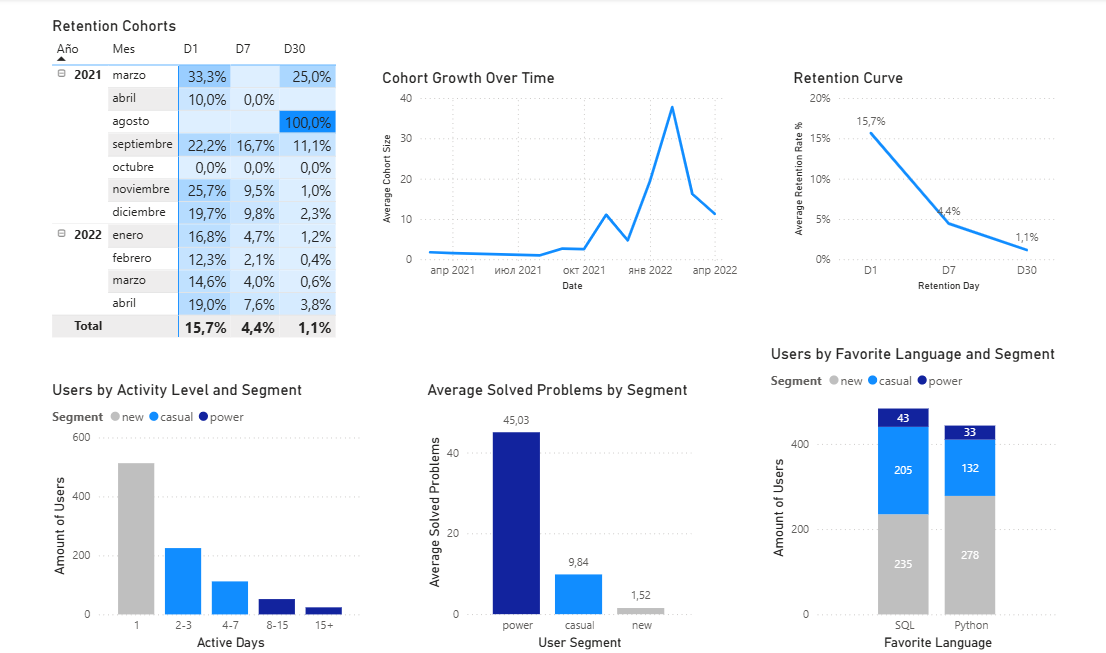

The dashboard page shown, as its layout file describes it:
{"tool":"powerbi","page":{"name":"Retention + Behavior","canvas":[1280,720],"ordinal":1},"visuals":[{"type":"pivotTable","title":"Retention Cohorts","fields":{"Columns":["mart agg_user_retention.retention_day"],"Values":["mart agg_user_retention.Retention Rate","select"],"Rows":["mart dim_calendar.month_start.Variación.Jerarquía de fechas.Año","mart dim_calendar.month_start.Variación.Jerarquía de fechas.Mes"]},"box":[102.9,20.6,330,400],"z":0},{"type":"lineChart","title":"Retention Curve","fields":{"Y":["mart agg_user_retention.Retention Rate"],"Category":["mart agg_user_retention.retention_day"]},"box":[916.6,76.8,300.5,250],"z":1000},{"type":"columnChart","title":"Users by Favorite Language and Segment","fields":{"Category":["mart agg_user_learning_behavior.favorite_language"],"Y":["CountNonNull(mart agg_user_learning_behavior.user_id)"],"Series":["mart agg_user_learning_behavior.user_segment"]},"box":[891.9,380.1,325.2,340.3],"z":2000},{"type":"columnChart","title":"Users by Activity Level and Segment","fields":{"Category":["mart agg_user_learning_behavior.ActiveDaysBin"],"Y":["CountNonNull(mart agg_user_learning_behavior.user_id)"],"Series":["mart agg_user_learning_behavior.user_segment"]},"box":[102.9,419.9,350,300.5],"z":3000},{"type":"lineChart","title":"Cohort Growth Over Time","fields":{"Category":["mart dim_calendar.calendar_date.Variación.Jerarquía de fechas.Año","mart dim_calendar.calendar_date.Variación.Jerarquía de fechas.Trimestre","mart dim_calendar.calendar_date.Variación.Jerarquía de fechas.Mes","mart dim_calendar.calendar_date.Variación.Jerarquía de fechas.Día"],"Y":["Avg(mart agg_user_retention.cohort_size)1"]},"box":[465.2,76.8,400,250],"z":4000},{"type":"columnChart","title":"Average Solved Problems by Segment","fields":{"Category":["mart agg_user_learning_behavior.user_segment"],"Y":["Avg(mart agg_user_learning_behavior.cnt_solved_problems)"]},"box":[514.6,419.9,300.5,300.5],"z":5000}]}

Visuals, with their boxes on the page's 1280x720 design canvas (x1, y1, x2, y2). These are canvas units, not pixel positions in the 1106x653 screenshot, which may show the page scaled, cropped or inside an application window:
"Retention Cohorts" pivotTable: [x1=103, y1=21, x2=433, y2=421]
"Retention Curve" lineChart: [x1=917, y1=77, x2=1217, y2=327]
"Users by Favorite Language and Segment" columnChart: [x1=892, y1=380, x2=1217, y2=720]
"Users by Activity Level and Segment" columnChart: [x1=103, y1=420, x2=453, y2=720]
"Cohort Growth Over Time" lineChart: [x1=465, y1=77, x2=865, y2=327]
"Average Solved Problems by Segment" columnChart: [x1=515, y1=420, x2=815, y2=720]
